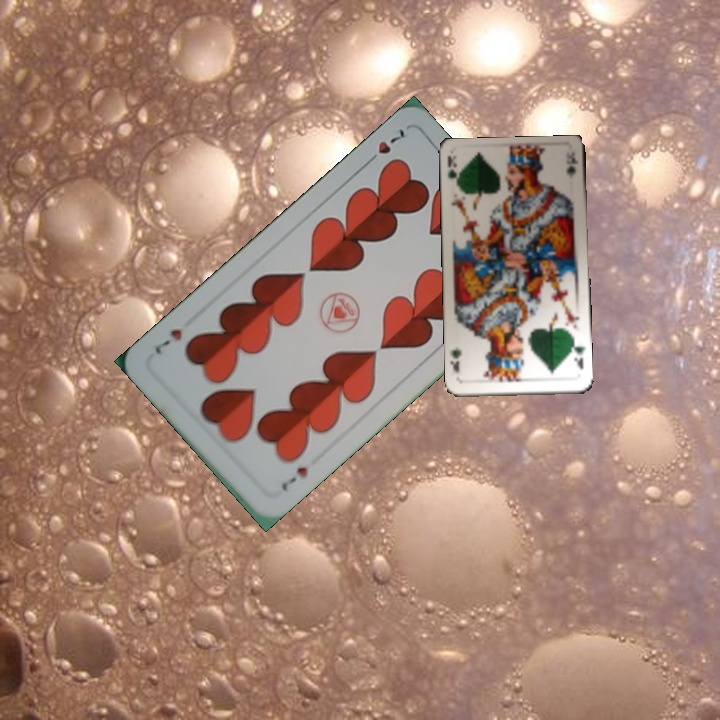GK: (443, 153, 462, 193), (568, 338, 587, 372)
H7: (361, 125, 410, 168), (277, 462, 310, 494)
